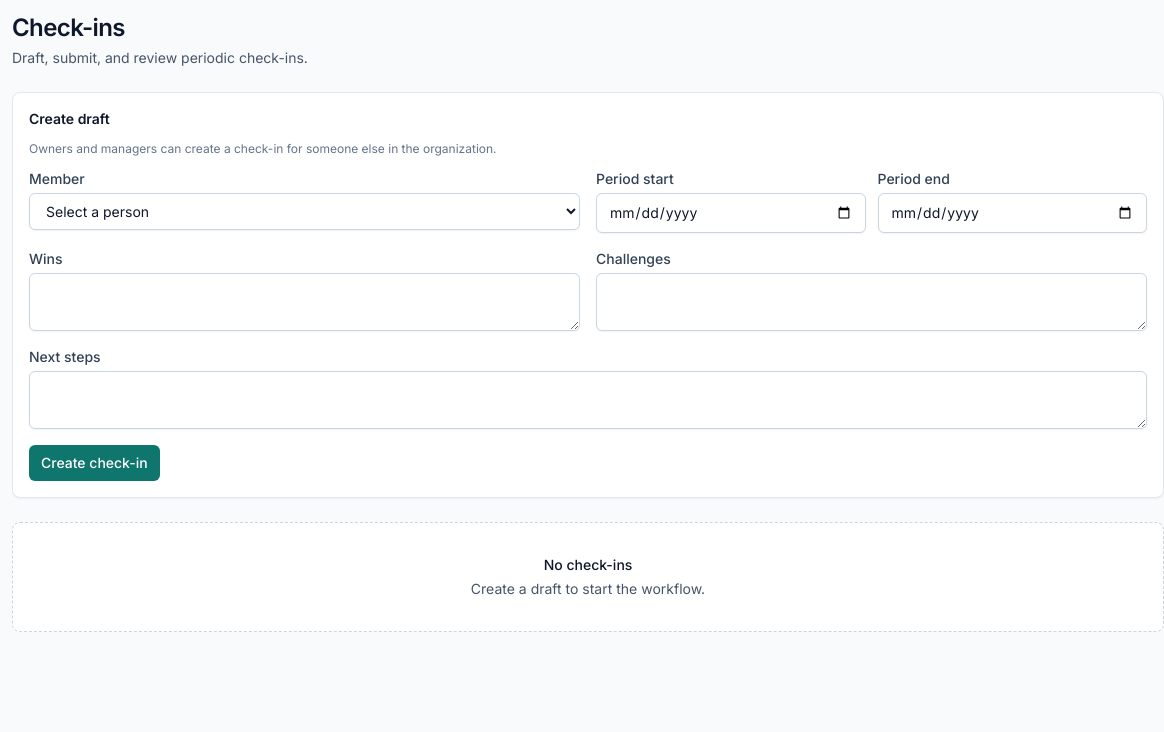
Test: CheckinsPage › requires member and period when creating a draft
This screenshot has width=1164, height=732.
Expected: the text "No check-ins" is shown, [544,556,632,573]
What coordinates should you click on to do the following:
click the button "Create check-in"
I would click on:
 (94, 463)
Its box is [29,445,160,481].
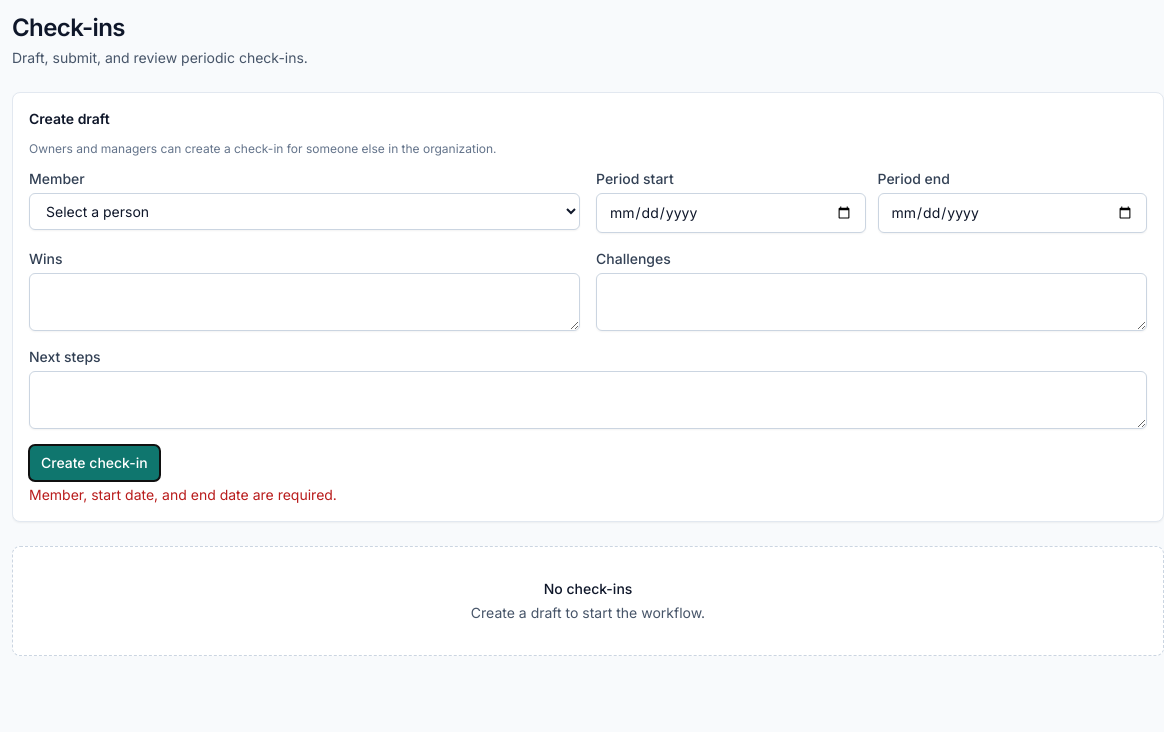
Expected: the text "Member, start date, and end date are required." is shown, [29,486,337,503]
